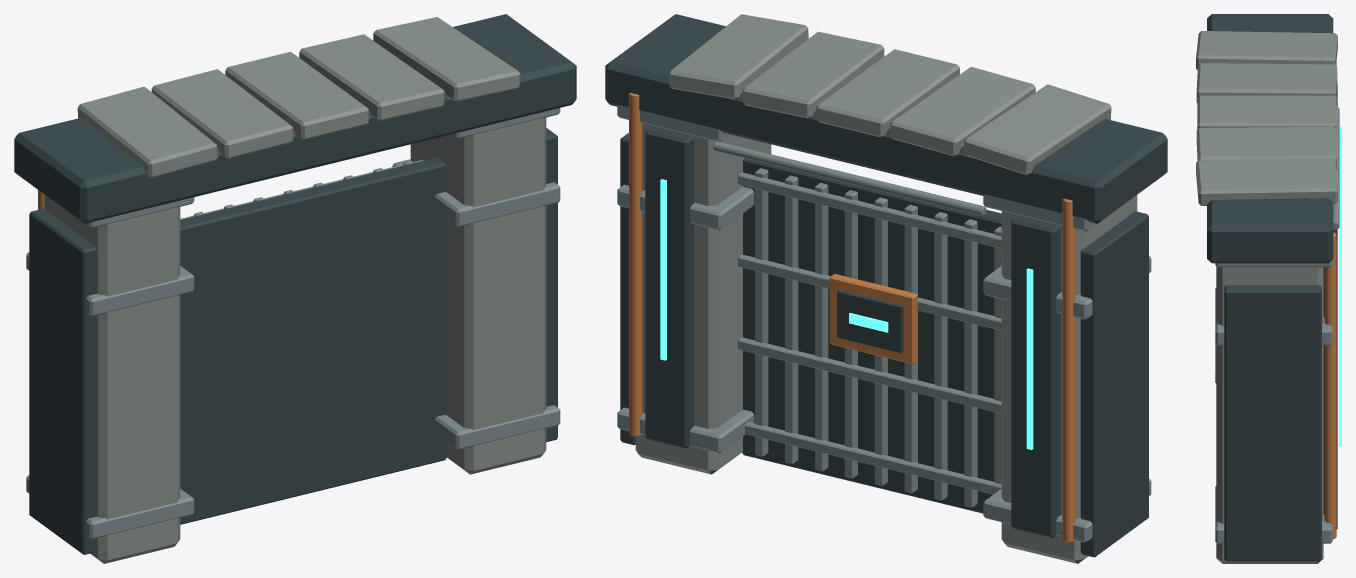
File: conduit_gateway.glb
3 views of the same model, side by side, from view 1: azimuth 30°, elevation 25°; view 2: azimuth 150°, elevation 25°; view 3: azimuth 270°, elevation 25° (orthographic). The views are drawn at different scales.
Parts seen in each view (by area): view 1: conduit_gateway_Surface; view 2: conduit_gateway_Surface; view 3: conduit_gateway_Surface.
Boxes of the visible parts, left/top/right/bottom form: conduit_gateway_Surface: left=14, top=14, right=576, bottom=563; conduit_gateway_Surface: left=605, top=14, right=1167, bottom=563; conduit_gateway_Surface: left=1196, top=14, right=1341, bottom=563.
Size of the model in its own units: 6.65 by 5.21 by 1.9.
1 material, 1 textured.
